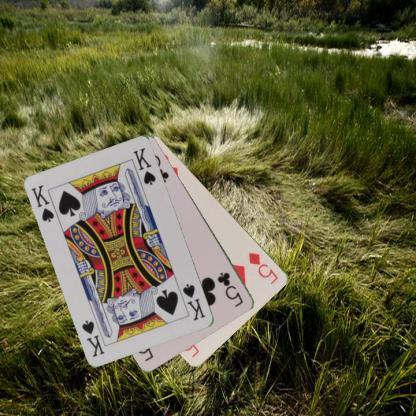5c: (214, 269, 245, 310)
5d: (246, 250, 280, 286)
Ks: (29, 182, 56, 224), (180, 280, 206, 323)
